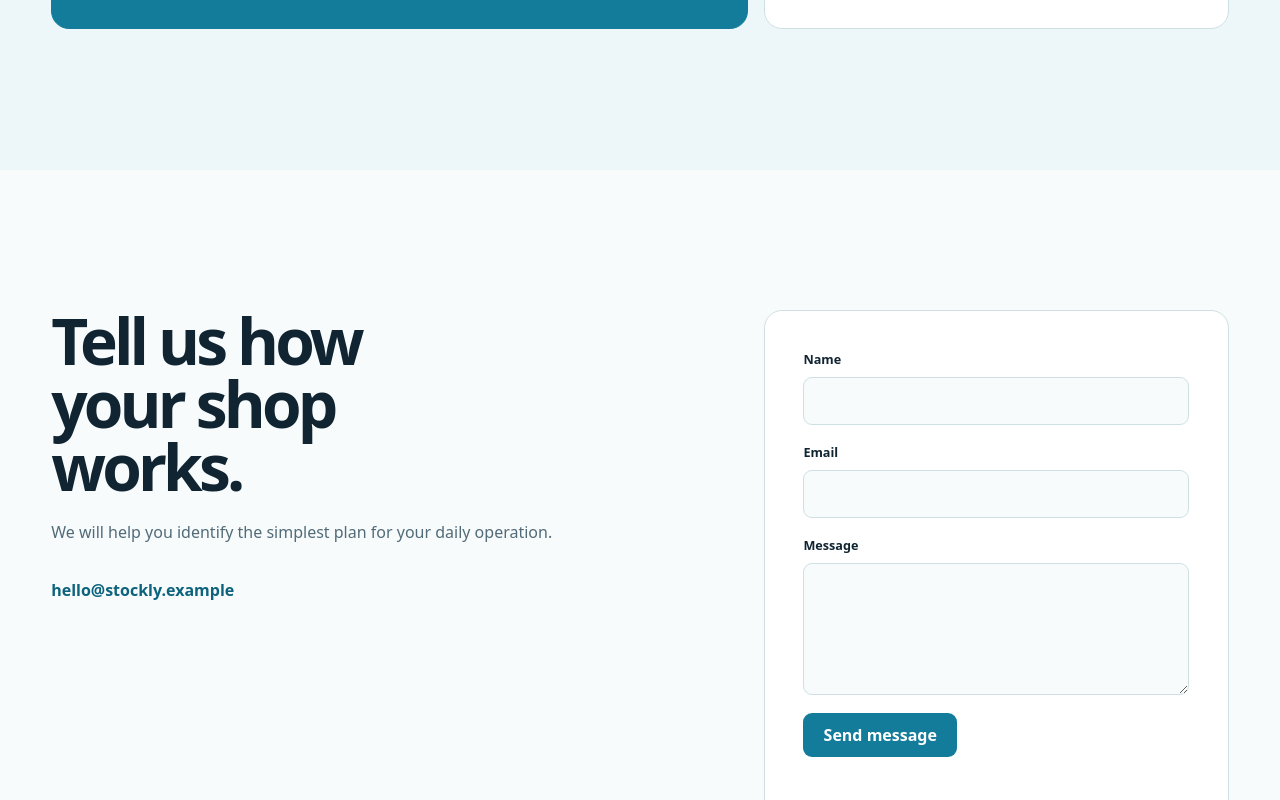
Stockly landing page › handles the contact form without a backend request
(page scrolled)
Type "Alex" into the field labelled "Name".
click(996, 400); type("Alex")  # box [803,376,1189,424]
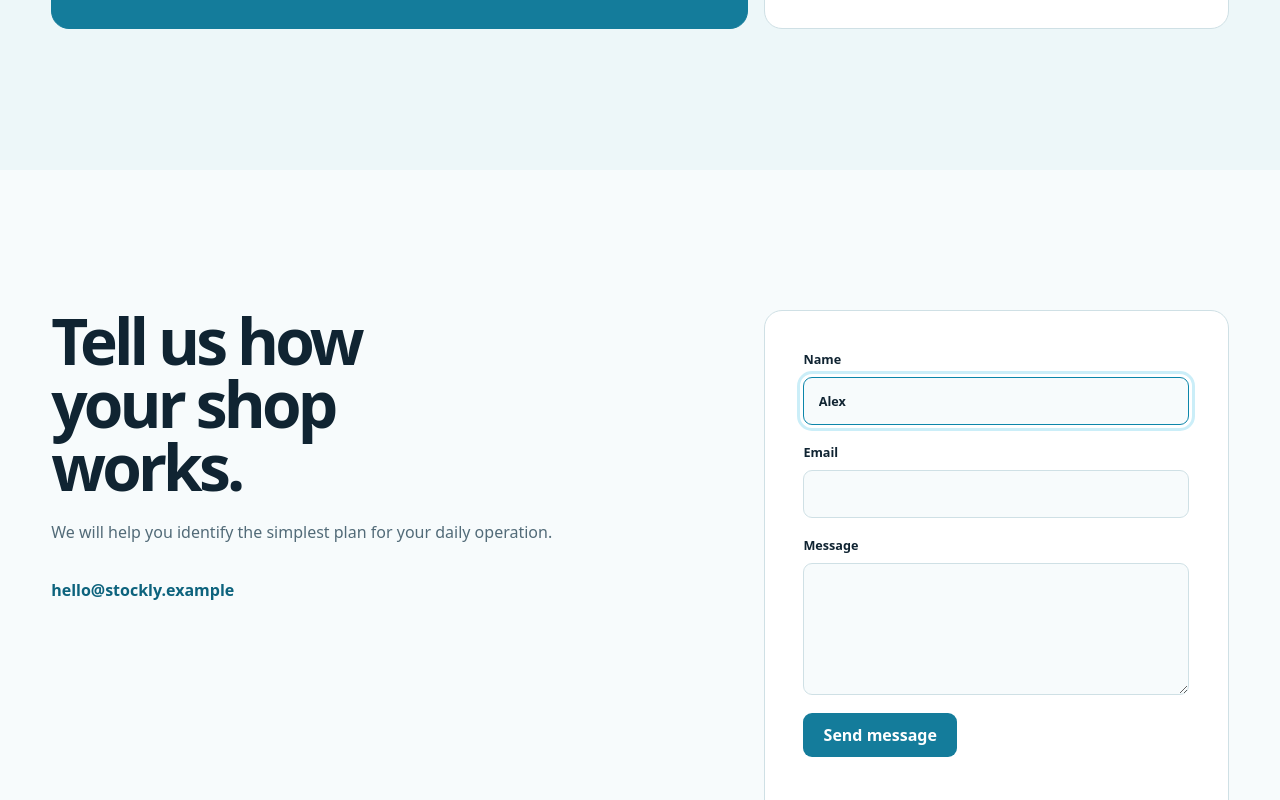
Type "alex@example.com" into the field labelled "Email".
click(996, 494); type("alex@example.com")  # box [803,470,1189,518]
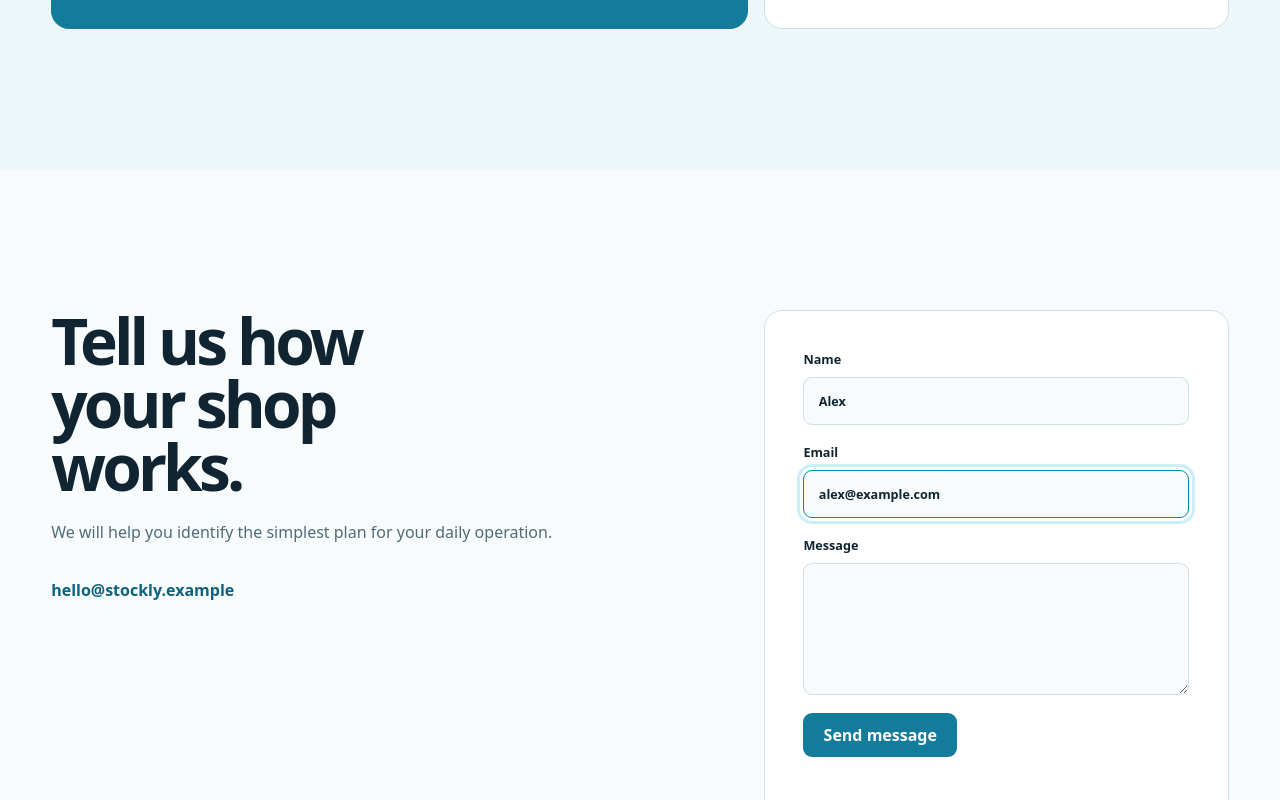
Type "I want to learn more." into the text box labelled "Message".
click(996, 629); type("I want to learn more.")  # box [803,563,1189,695]
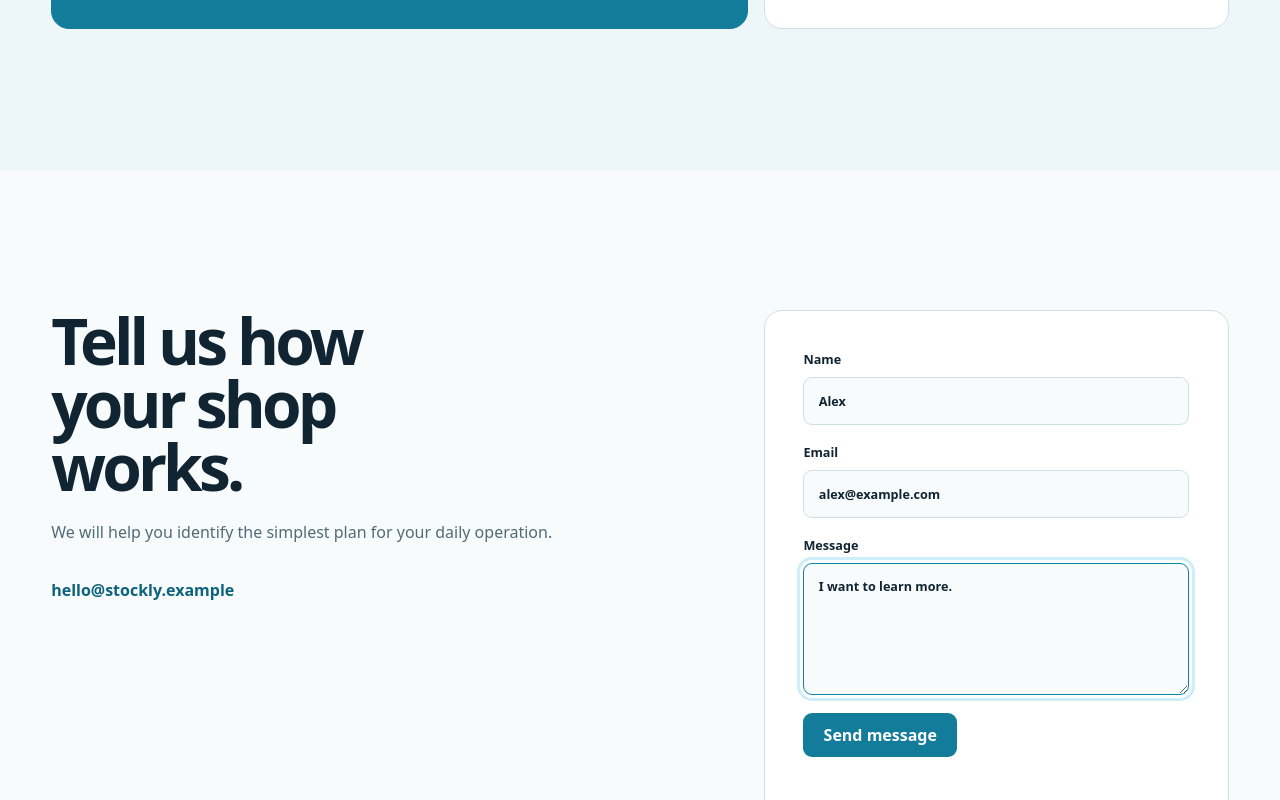
Click the button "Send message".
click(880, 735)  # box [803,713,957,757]
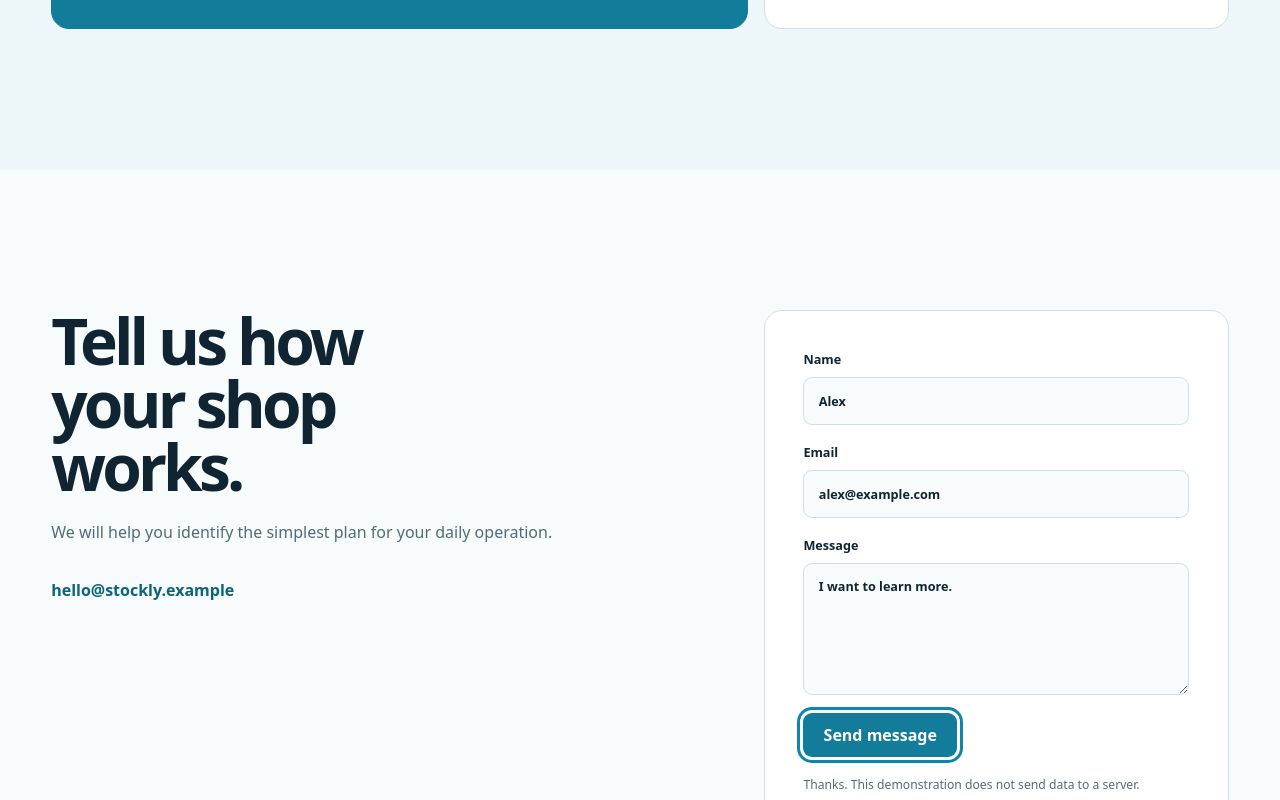
Now the message shows "does not send data", box [803,776,1140,793]
